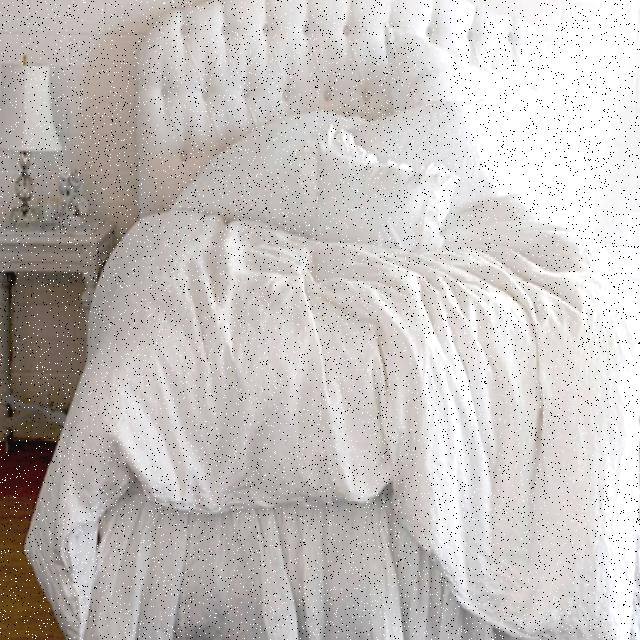bed: (41, 26, 640, 640)
